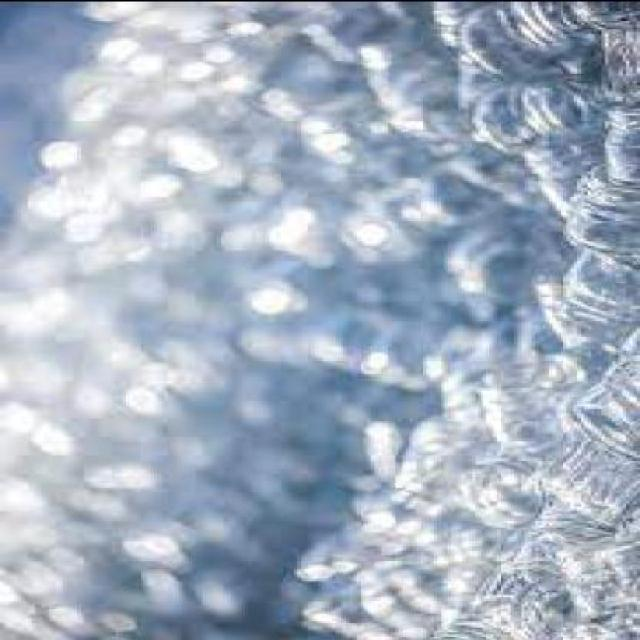glass: (0, 1, 638, 638), (0, 252, 443, 638), (0, 2, 288, 276), (277, 363, 455, 480), (228, 25, 357, 117), (469, 358, 585, 458), (458, 77, 598, 157), (117, 2, 252, 82), (117, 51, 252, 131), (304, 309, 444, 386), (330, 180, 452, 266), (385, 416, 489, 516), (440, 222, 560, 308), (156, 86, 266, 179), (288, 517, 442, 581), (214, 468, 349, 540), (329, 263, 480, 326), (294, 3, 434, 66), (186, 137, 288, 223), (354, 20, 469, 94), (525, 277, 629, 357), (437, 570, 555, 638), (538, 445, 637, 526), (455, 3, 557, 80), (560, 162, 637, 262), (294, 586, 438, 639), (518, 126, 598, 217), (52, 54, 140, 135), (557, 536, 637, 624), (437, 323, 514, 412), (452, 454, 536, 534), (417, 504, 518, 570), (504, 508, 596, 580), (304, 97, 396, 168), (420, 159, 515, 226), (563, 372, 637, 458), (354, 562, 441, 632), (506, 591, 631, 638), (263, 191, 343, 263), (434, 144, 538, 198), (192, 200, 291, 254), (277, 129, 372, 185), (566, 252, 637, 320), (46, 17, 112, 89), (340, 141, 428, 194), (378, 85, 458, 143), (538, 332, 612, 394), (346, 448, 399, 534), (491, 3, 582, 52), (478, 298, 550, 352), (233, 274, 304, 326), (591, 31, 637, 108), (591, 112, 637, 186), (225, 326, 308, 366), (434, 3, 480, 57), (549, 3, 637, 31), (598, 26, 637, 88), (354, 417, 406, 460), (80, 3, 154, 31), (244, 3, 322, 28), (609, 312, 637, 366)
